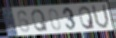0: (48, 8, 62, 32)
3: (62, 6, 79, 31)
6: (17, 10, 31, 34)
Q: (78, 5, 96, 30), (31, 9, 49, 33)
U: (91, 4, 111, 30)
